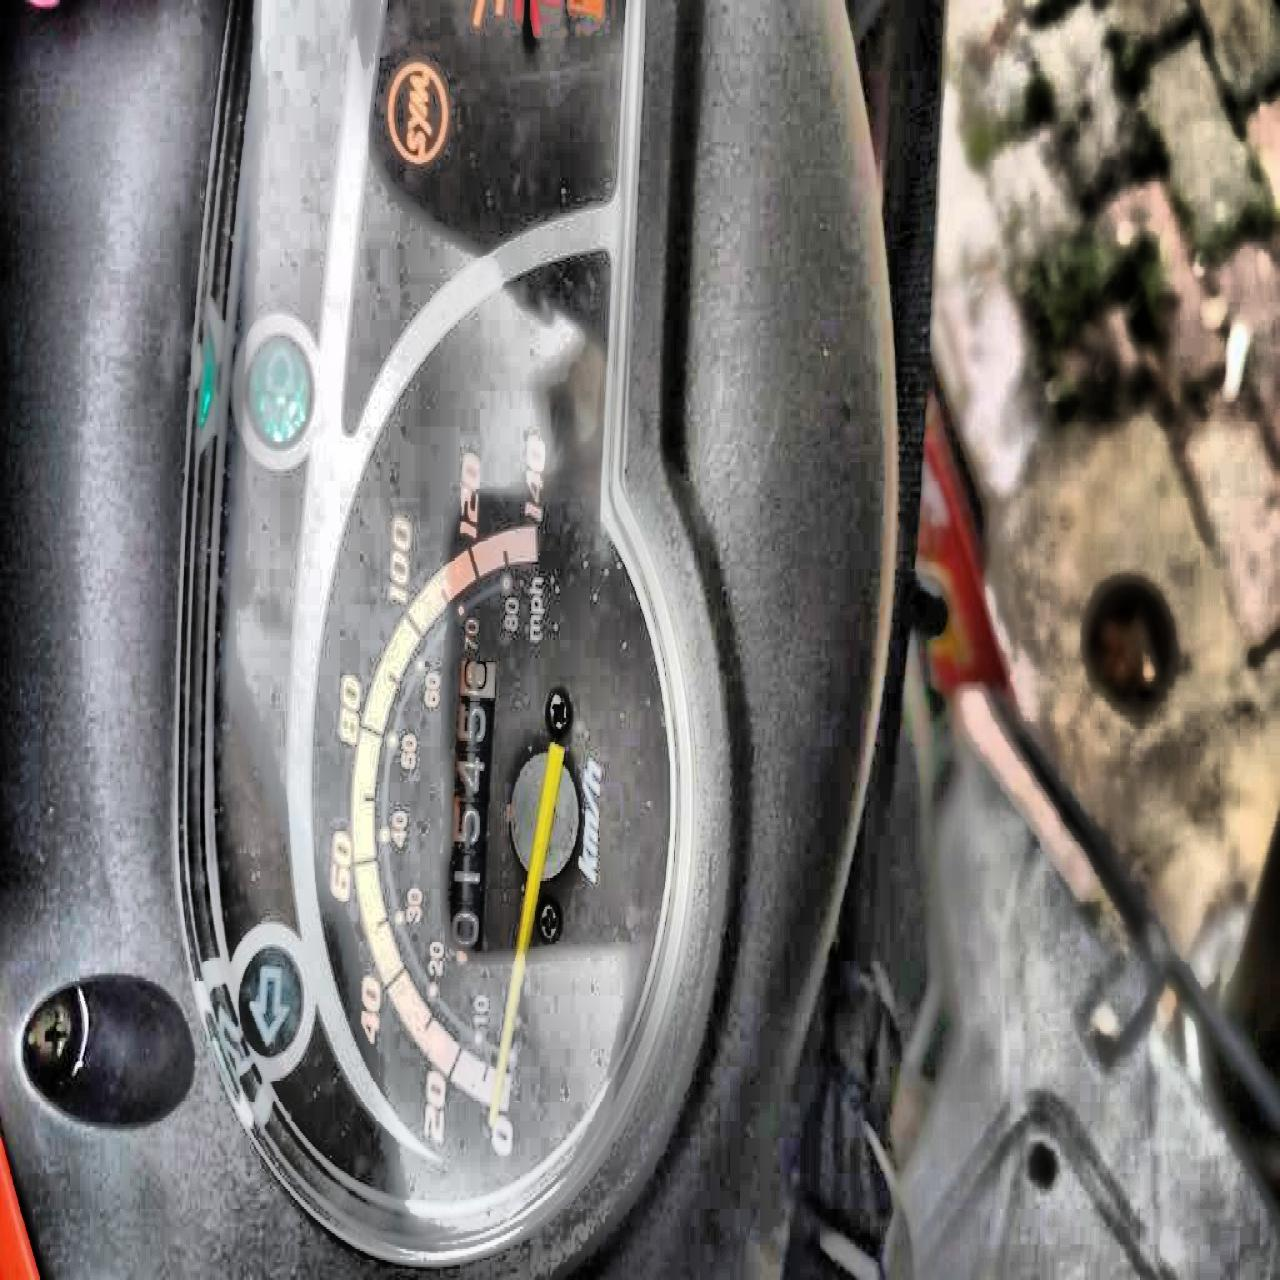0: (450, 907, 482, 949)
1: (450, 866, 486, 886)
4: (455, 749, 486, 791)
5: (450, 798, 482, 844), (454, 702, 486, 744)
6: (458, 653, 490, 692)
odometer: (448, 651, 497, 960)
